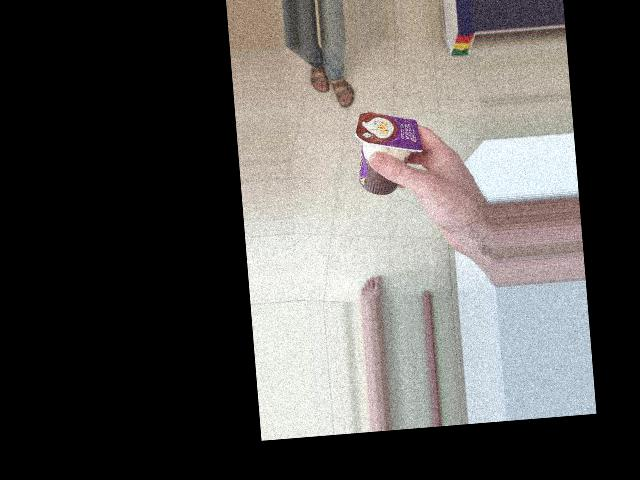milky: (322, 102, 413, 171)
